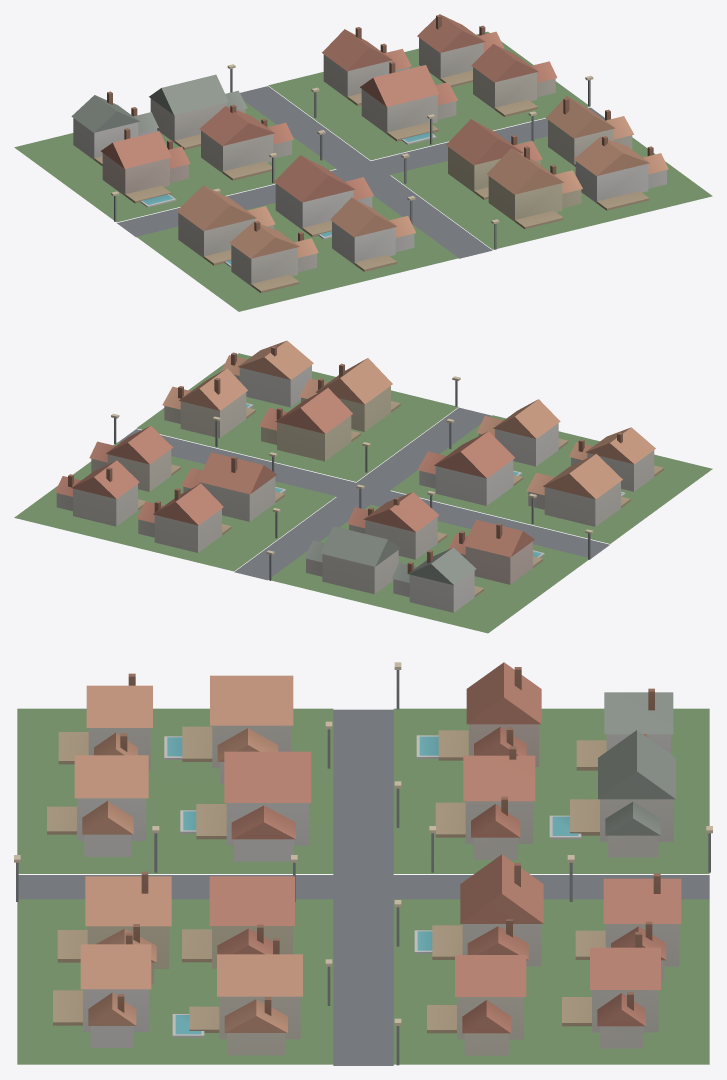
Rendered from district_hilltop.glb.
The picture shows the model from 3 angles, top to bottom: view 1: azimuth 30°, elevation 25°; view 2: azimuth 150°, elevation 25°; view 3: azimuth 270°, elevation 25°; orthographic projection. The views are drawn at different scales.
Parts seen in each view (by area): view 1: district_hilltop; view 2: district_hilltop; view 3: district_hilltop.
Part boxes in pixels (bbox=[...]): district_hilltop: bbox=[14, 14, 712, 311]; district_hilltop: bbox=[14, 340, 712, 633]; district_hilltop: bbox=[14, 662, 712, 1065].
Bounding box in the file's own units: 113 × 12.31 × 92.9.
